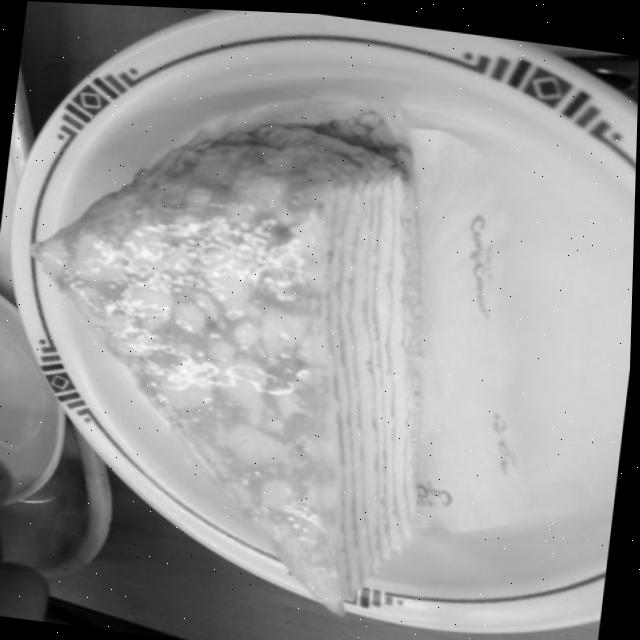蛋糕甜品: (0, 77, 541, 634)
